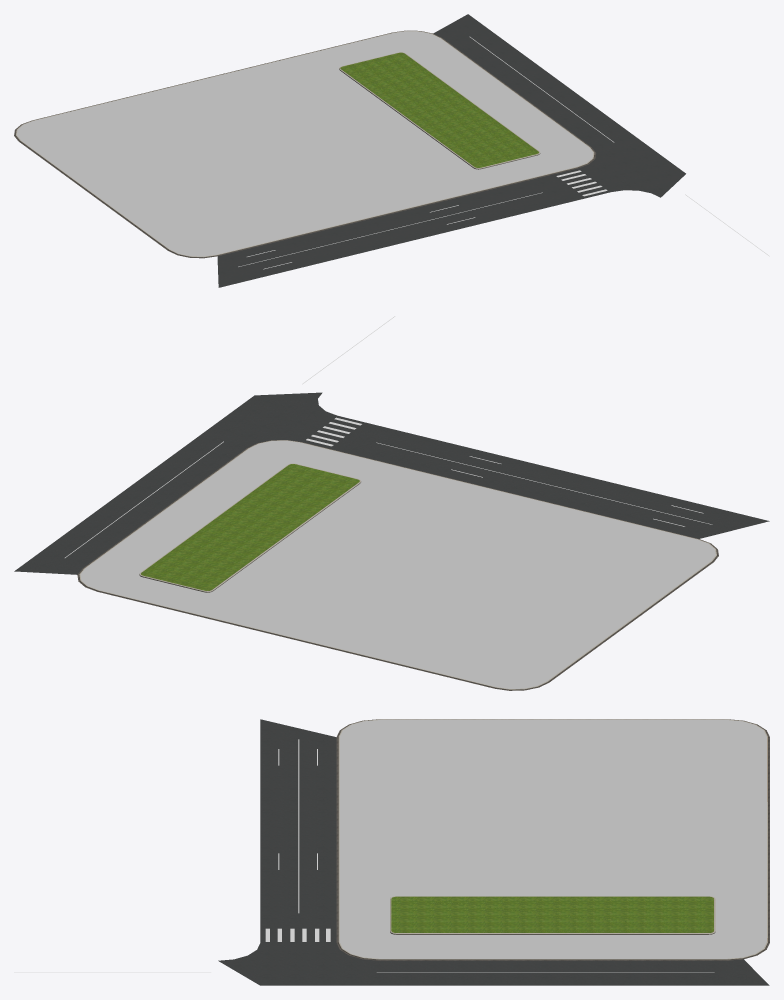
Rendered from New_Terrain_Area_12.fbx.
3 renders of one model, top to bottom at view 1: azimuth 30°, elevation 25°; view 2: azimuth 150°, elevation 25°; view 3: azimuth 270°, elevation 25°, orthographic. The views are drawn at different scales.
Parts seen in each view (by area): view 1: Area_12, Road_26.001, Road_Alpha_32.001; view 2: Area_12, Road_26.001, Road_Alpha_32.001; view 3: Area_12, Road_26.001, Road_Alpha_32.001, Road_Alpha_23.001.
Part boxes in pixels (<box>): Area_12: <box>14,30,596,258</box>; Road_26.001: <box>217,14,685,287</box>; Road_Alpha_32.001: <box>238,170,607,269</box>; Area_12: <box>77,440,718,690</box>; Road_26.001: <box>14,392,769,574</box>; Road_Alpha_32.001: <box>306,417,712,526</box>; Area_12: <box>336,719,769,960</box>; Road_26.001: <box>218,719,769,985</box>; Road_Alpha_32.001: <box>265,739,330,941</box>; Road_Alpha_23.001: <box>14,972,714,972</box>.
Size of the model in its own units: 7484 by 21.84 by 8972.
